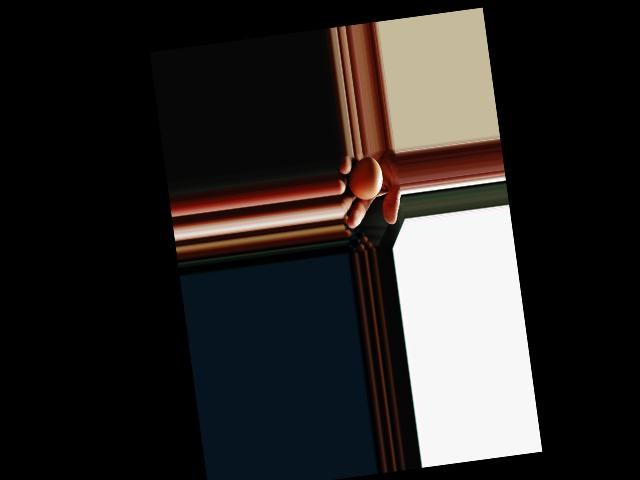egg: (344, 154, 384, 201)
